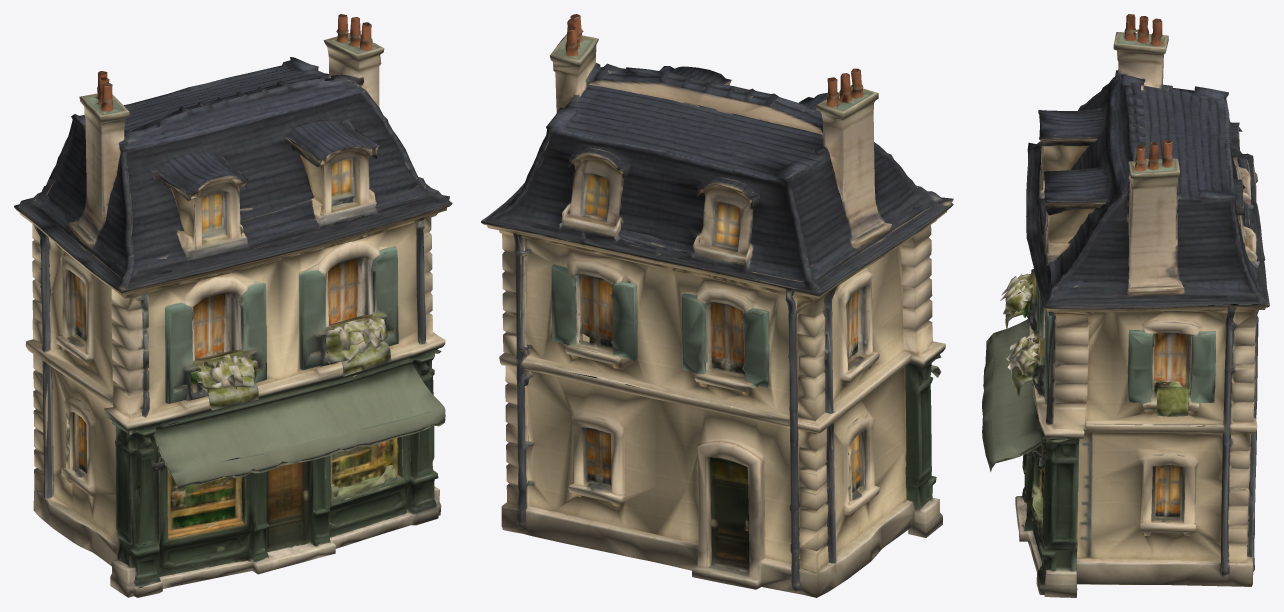
3 renders of one model, left to right at view 1: azimuth 30°, elevation 25°; view 2: azimuth 150°, elevation 25°; view 3: azimuth 270°, elevation 25°, orthographic. The views are drawn at different scales.
Parts seen in each view (by area): view 1: classic__shop_2__neural_lod; view 2: classic__shop_2__neural_lod; view 3: classic__shop_2__neural_lod.
Part boxes in pixels (<box>): classic__shop_2__neural_lod: <box>14,14,452,597</box>; classic__shop_2__neural_lod: <box>481,14,953,597</box>; classic__shop_2__neural_lod: <box>982,14,1269,597</box>.
Size of the model in its own units: 0.7584 by 0.9995 by 0.5816.
Materials: 1 (1 with a texture image).
